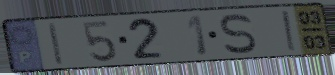1: (186, 13, 209, 59)
2: (126, 15, 170, 64)
5: (80, 19, 119, 64)
I: (279, 9, 300, 53), (46, 21, 66, 67)
S: (218, 12, 259, 56)
